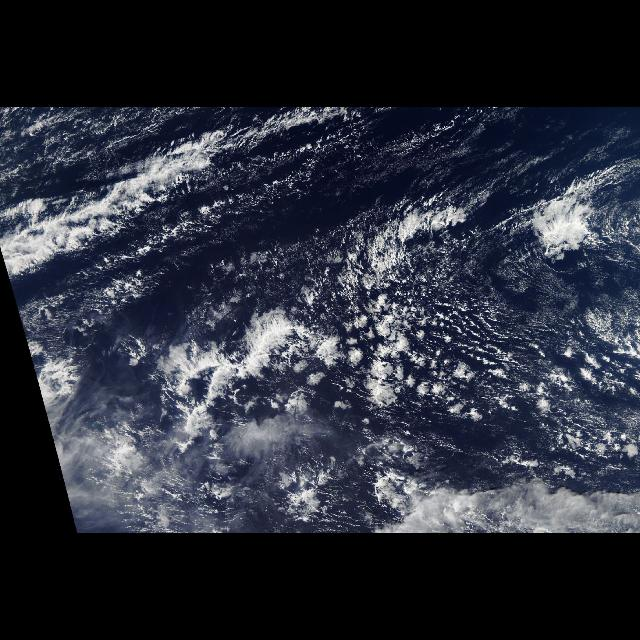Fish: (4, 116, 320, 280), (134, 313, 300, 453)
